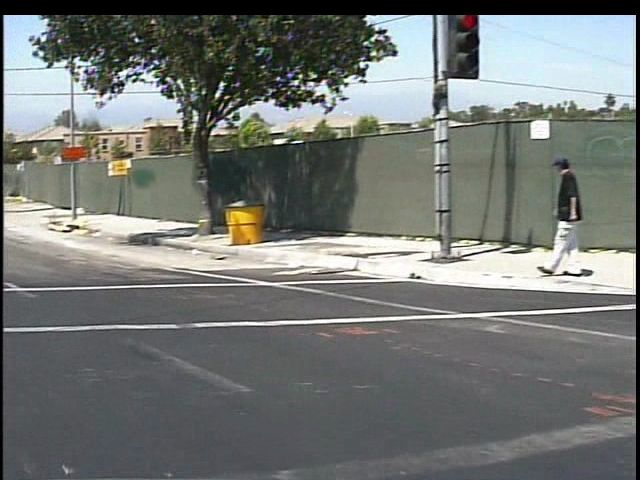person: (529, 147, 583, 287)
